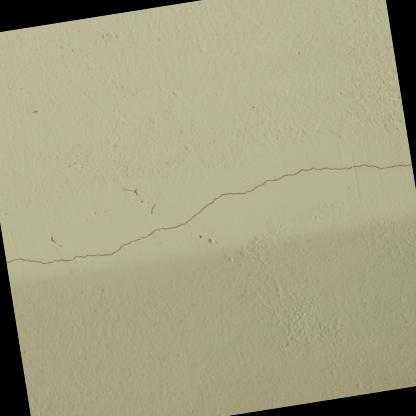crack: (6, 162, 412, 263)
